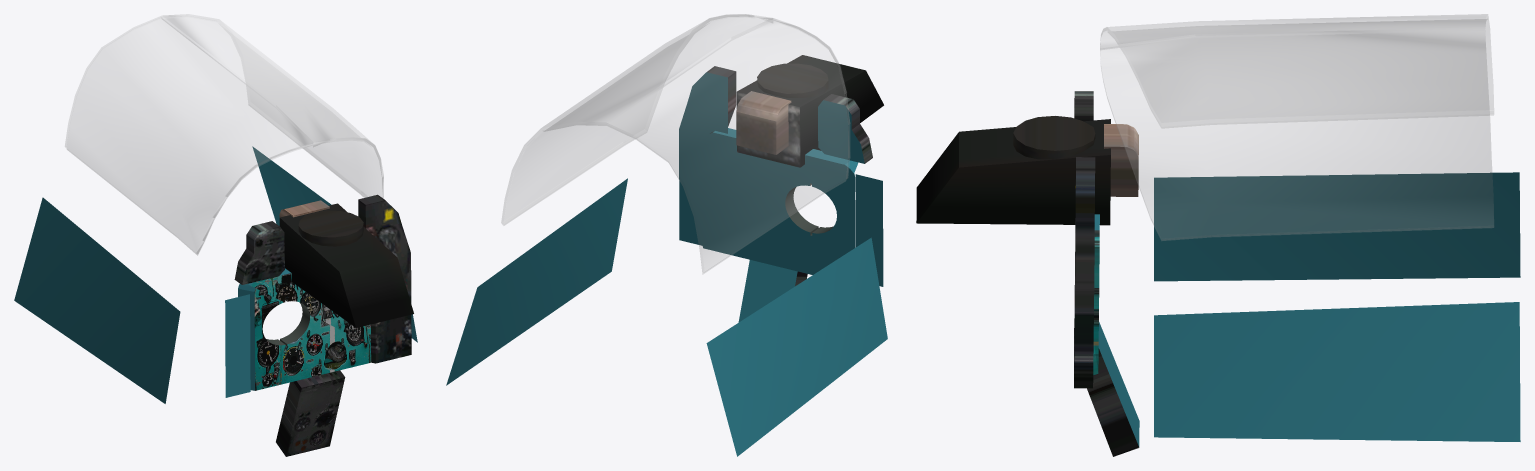
The model's file is mig21cockpitplus.fbx.
3 renders of one model, left to right at view 1: azimuth 30°, elevation 25°; view 2: azimuth 150°, elevation 25°; view 3: azimuth 270°, elevation 25°, orthographic. The views are drawn at different scales.
Parts seen in each view (by area): view 1: cockpitinst, canopyglass, cockpitint.001; view 2: cockpitinst, canopyglass, cockpitint.001; view 3: cockpitinst, canopyglass, cockpitint.001.
Boxes of the visible parts, x1,y1,x2,y2 form: cockpitinst: (14,146,417,456); canopyglass: (65,14,383,255); cockpitint.001: (298,210,363,246); cockpitinst: (446,55,887,456); canopyglass: (501,14,850,274); cockpitint.001: (757,63,828,97); cockpitinst: (916,91,1520,456); canopyglass: (1100,14,1494,240); cockpitint.001: (1013,116,1095,159).
Size of the model in its own units: 87.21 by 103 by 135.
5 materials, 2 textured.
